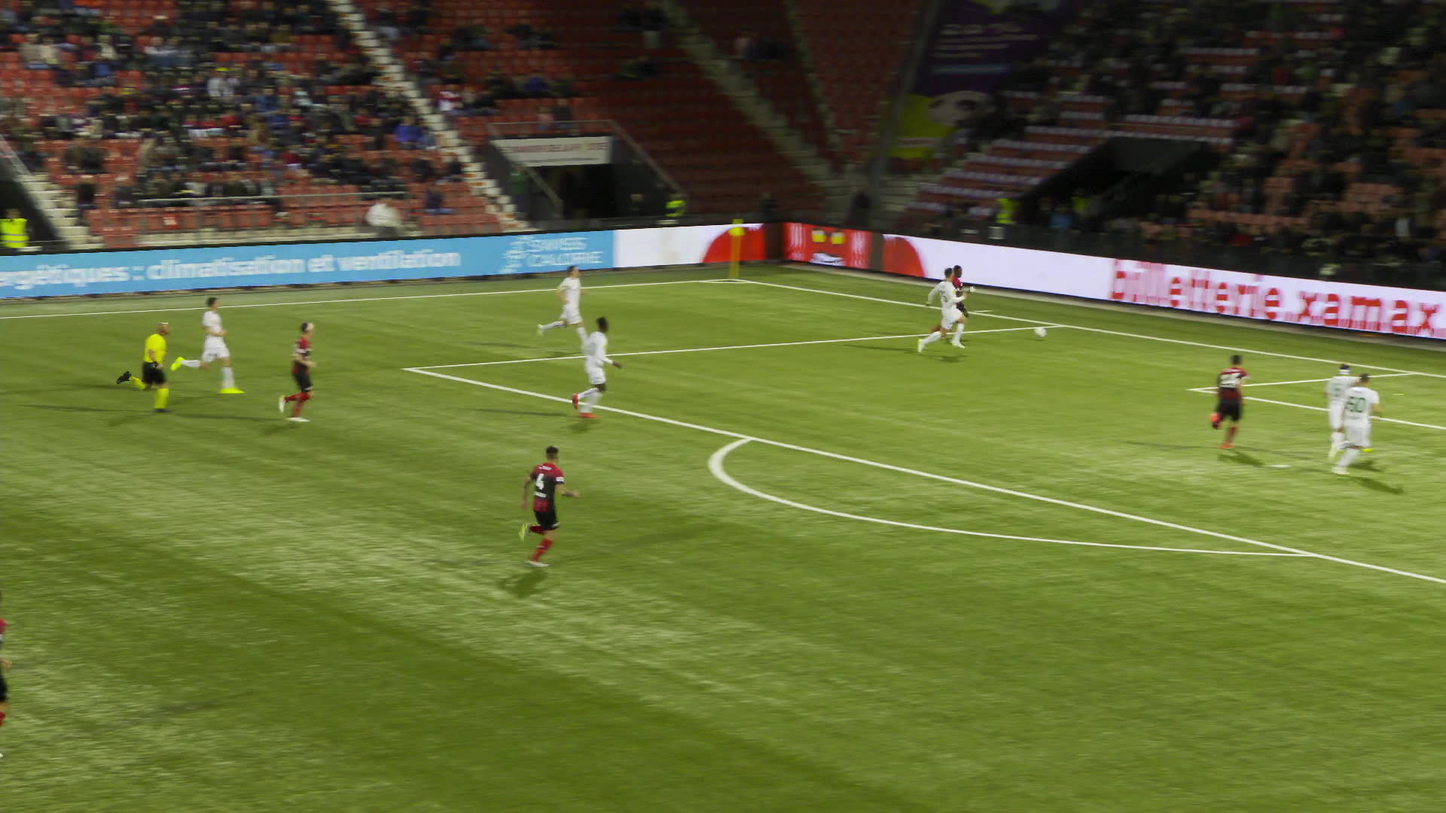ball: (1035, 326, 1046, 337)
player: (511, 443, 578, 565), (168, 295, 246, 395), (1330, 373, 1383, 475), (572, 315, 624, 417), (536, 263, 595, 347), (917, 266, 968, 355), (276, 320, 319, 422), (1206, 354, 1252, 449), (1322, 363, 1363, 458), (929, 263, 969, 333), (0, 608, 12, 755)
referee: (114, 319, 175, 413)
